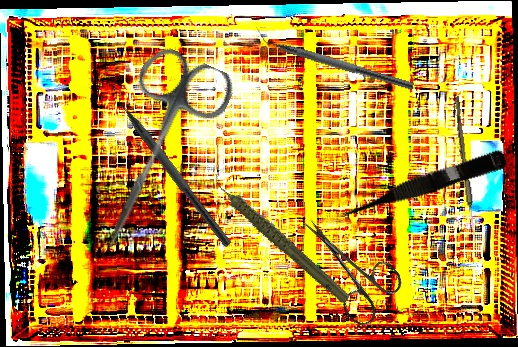Chopper: (103, 79, 243, 249), (251, 25, 418, 91)
Handpiece: (210, 149, 352, 326)
Iris Scissors: (69, 41, 240, 268), (281, 199, 411, 331)
Micro Scissor: (330, 144, 509, 226)
Surgical Spoon: (451, 96, 480, 243)
